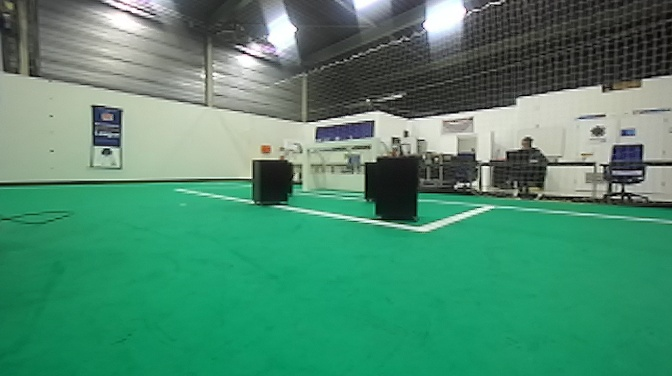goalpost: (366, 129, 383, 164), (300, 143, 311, 194)
